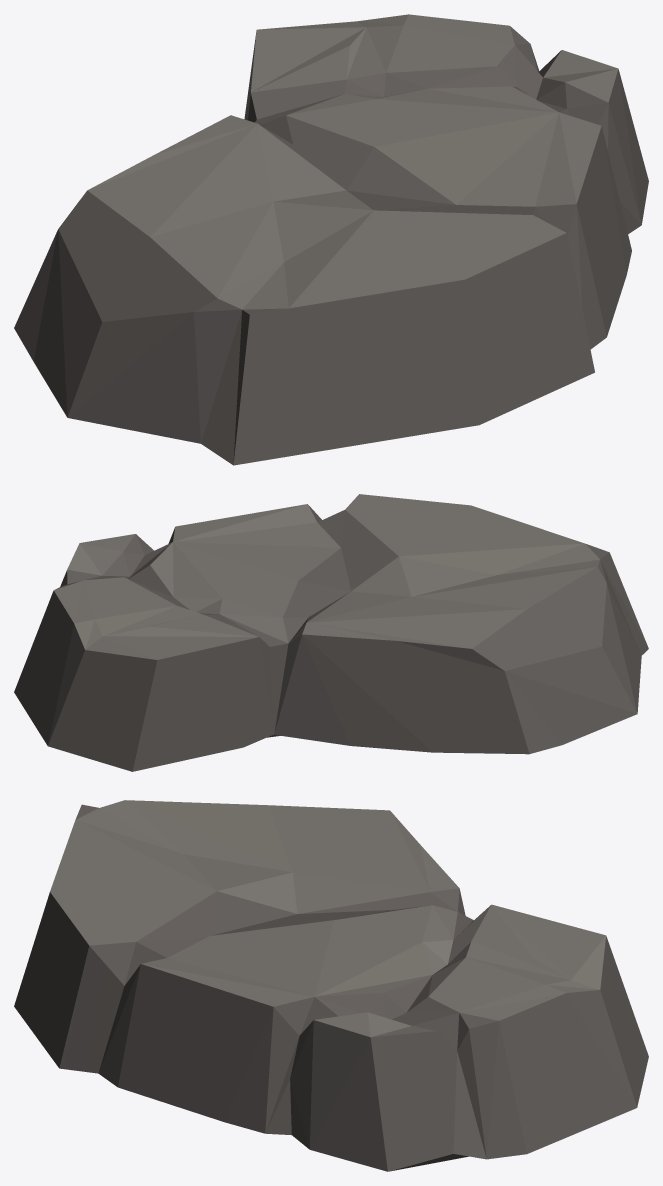
Rendered from SM_Env_Rock_Flat_06.fbx.
The picture shows the model from 3 angles, top to bottom: view 1: azimuth 30°, elevation 25°; view 2: azimuth 150°, elevation 25°; view 3: azimuth 270°, elevation 25°; orthographic projection. The views are drawn at different scales.
Parts seen in each view (by area): view 1: SM_Env_Rock_Flat_06; view 2: SM_Env_Rock_Flat_06; view 3: SM_Env_Rock_Flat_06.
Part boxes in pixels (<box>): SM_Env_Rock_Flat_06: <box>14,14,648,465</box>; SM_Env_Rock_Flat_06: <box>14,494,648,771</box>; SM_Env_Rock_Flat_06: <box>14,800,648,1171</box>.
Size of the model in its own units: 2.55 by 0.47 by 2.29.
